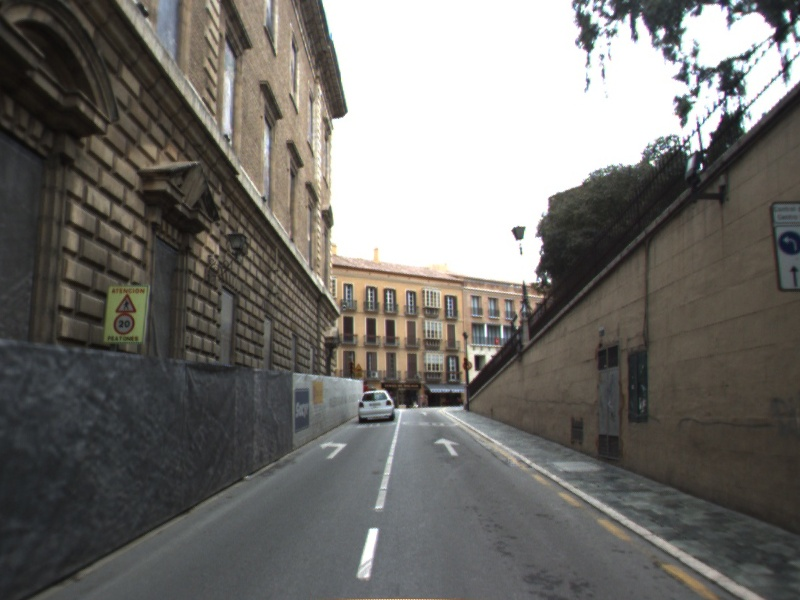LEFT: (318, 438, 349, 461)
STRAIGHT: (432, 436, 463, 458)
